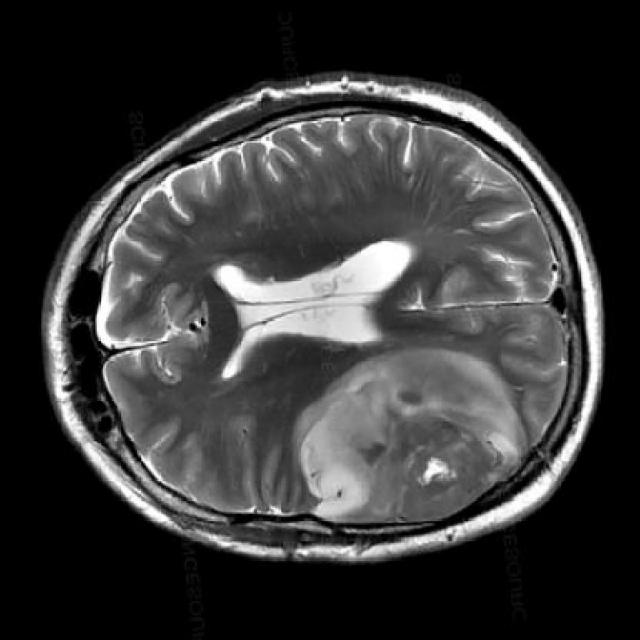Brain-Tumor: (290, 333, 549, 536)
